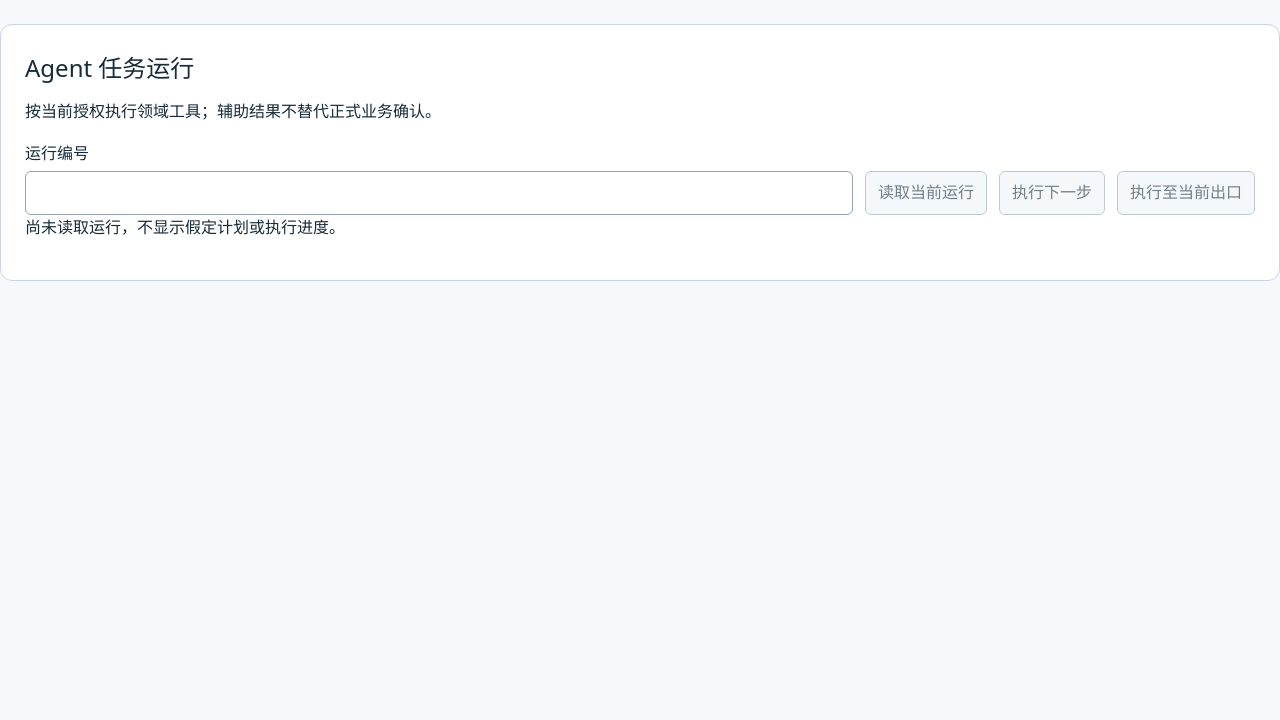
Test: shared real-run projection › continuous execution sends one execute request and uses actual stopped result
The width and height of the screenshot is (1280, 720).
Type "run-1" into the field labelled "运行编号".
click(439, 193); type("run-1")  # box [25,171,853,215]
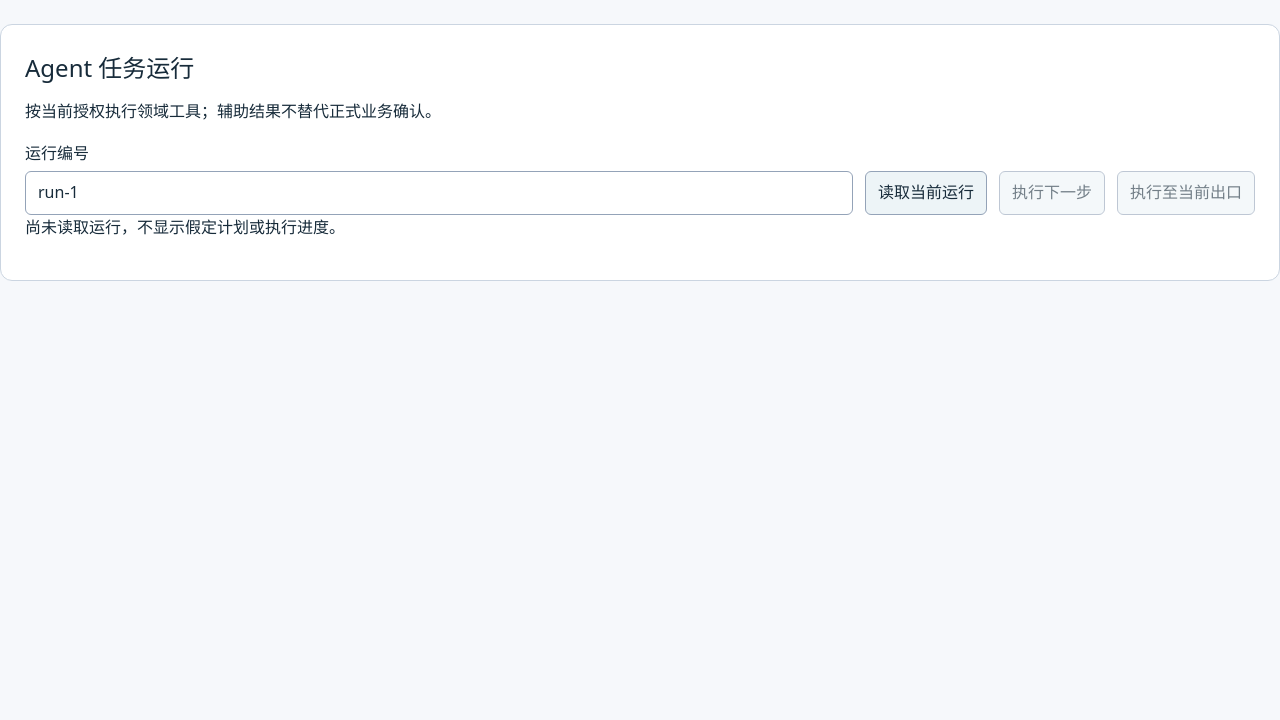
Click the button "读取当前运行".
click(926, 193)  # box [865,171,987,215]
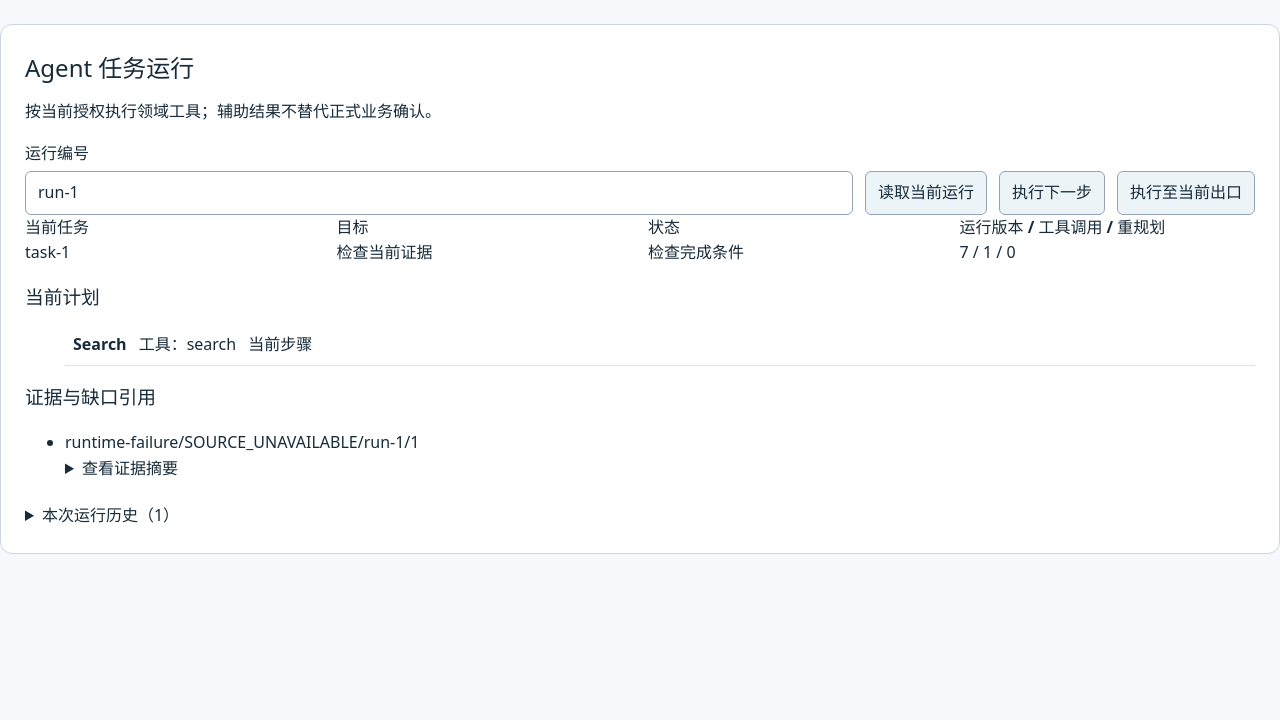
Check: the text "检查当前证据" is shown, box [336,241,432,263]
Click the button "执行至当前出口".
click(1186, 193)  # box [1117,171,1255,215]
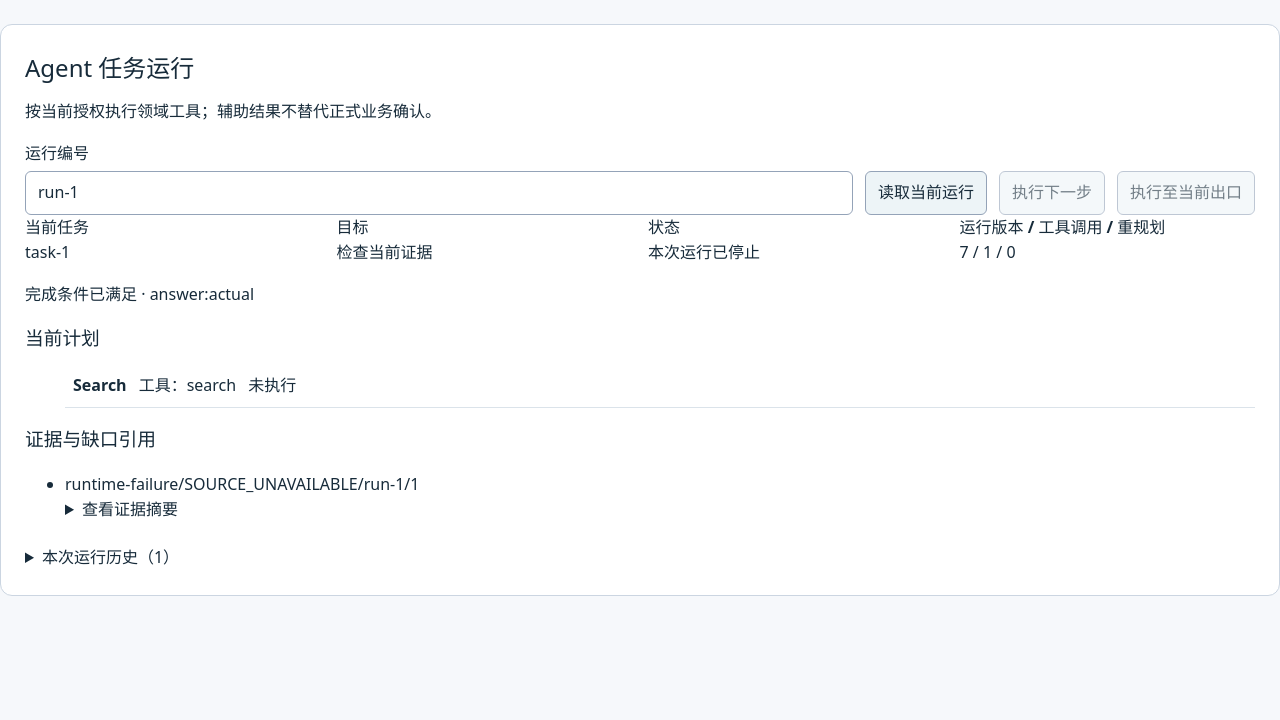
Check: the text "完成条件已满足" is shown, box [25,283,137,305]
Check: the button "执行至当前出口" is disabled, box [1117,171,1255,215]
